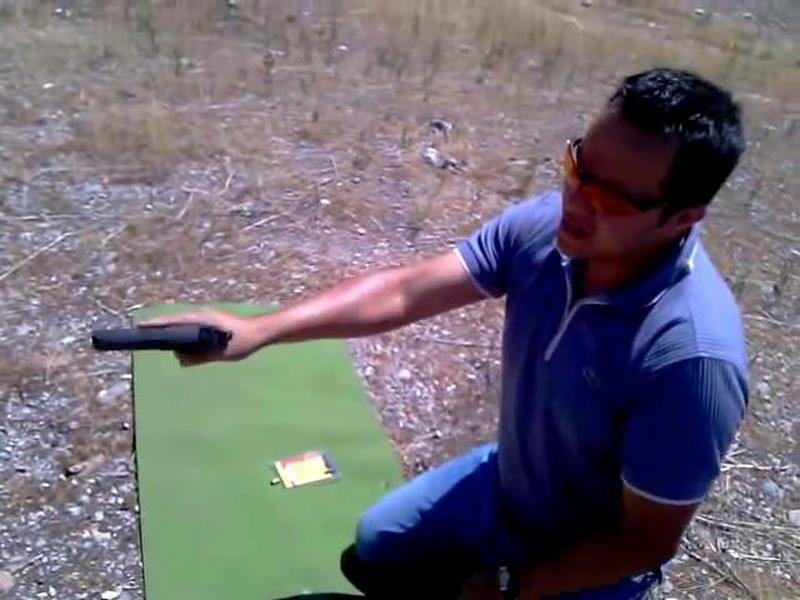Pistola: (77, 303, 241, 385)
